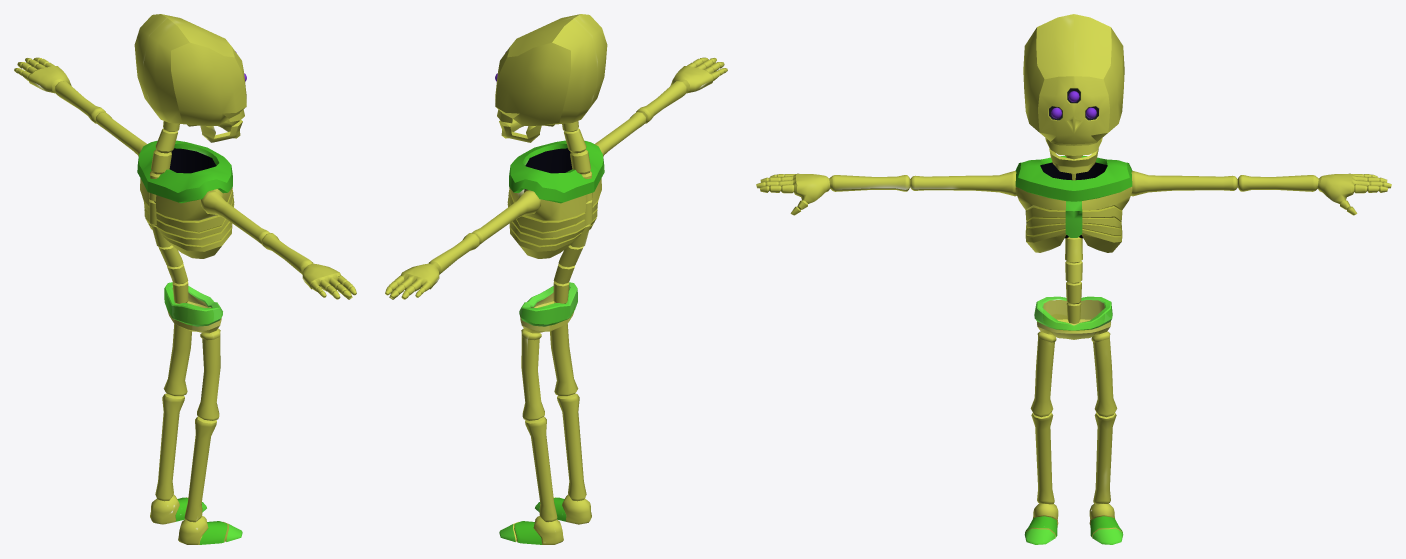
Rendered from Alien Skeleton.glb.
3 views of the same model, side by side, from view 1: azimuth 30°, elevation 25°; view 2: azimuth 150°, elevation 25°; view 3: azimuth 270°, elevation 25° (orthographic).
Visible parts, largest first — view 1: _100Avatars_109_AlienSkeleton; view 2: _100Avatars_109_AlienSkeleton; view 3: _100Avatars_109_AlienSkeleton.
Boxes of the visible parts, x1,y1,x2,y2 form: _100Avatars_109_AlienSkeleton: [14, 14, 356, 544]; _100Avatars_109_AlienSkeleton: [385, 14, 727, 544]; _100Avatars_109_AlienSkeleton: [756, 14, 1391, 544].
Size of the model in its own units: 1.05 by 5.27 by 6.02.
Materials: 1 (1 with a texture image).
